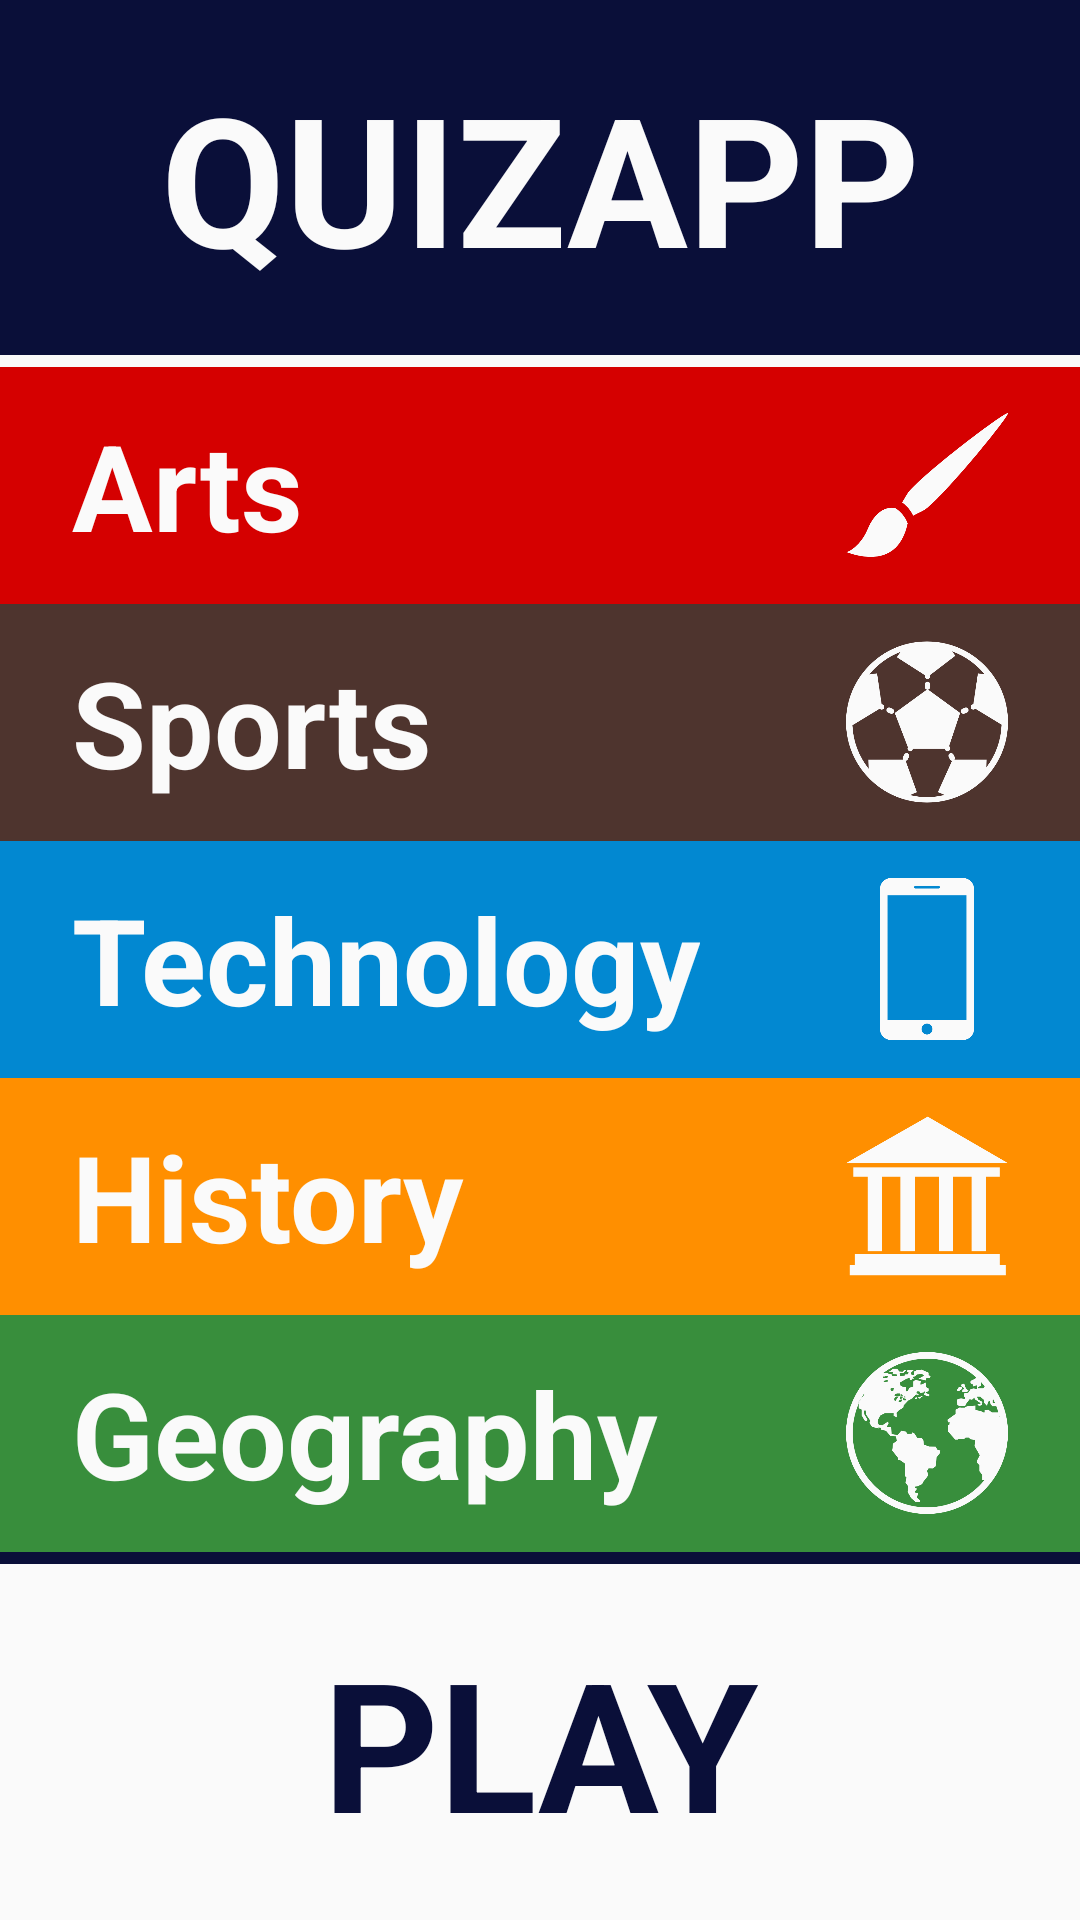

Point at icon controls on the screen. Image size 1080 × 1920, points as [x,y].
arts: [927,485]
geography: [927,1433]
history: [927,1196]
soccer: [927,722]
